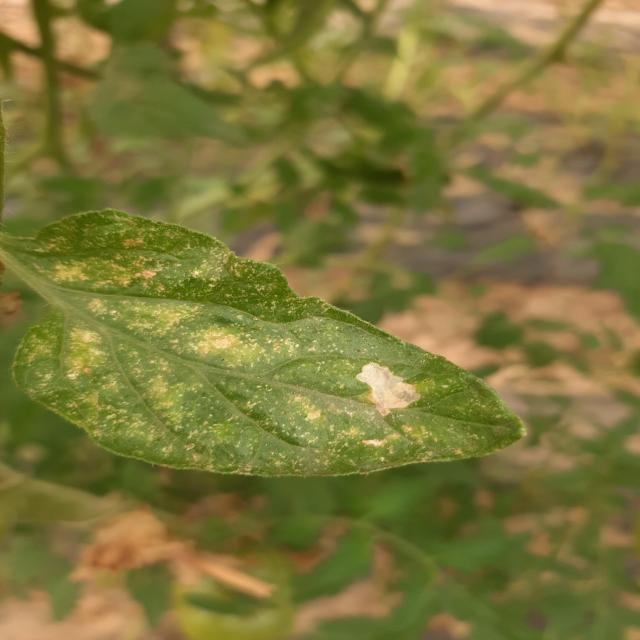Tuta absoluta: (344, 355, 432, 430)
